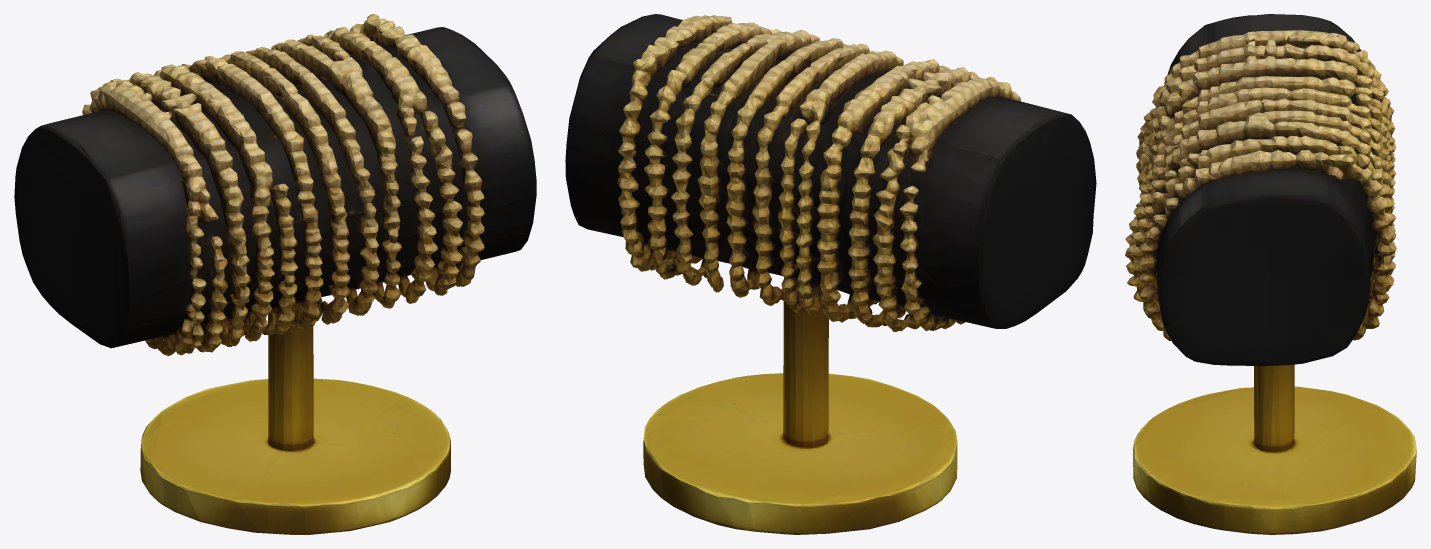
3 views of the same model, side by side, from view 1: azimuth 30°, elevation 25°; view 2: azimuth 150°, elevation 25°; view 3: azimuth 270°, elevation 25° (orthographic). The views are drawn at different scales.
Visible parts, largest first — view 1: geometry_0; view 2: geometry_0; view 3: geometry_0.
Part boxes in pixels (x1,y1,x2,y2): geometry_0: (14,14,536,534); geometry_0: (565,14,1096,534); geometry_0: (1125,14,1416,534).
Bounding box in the file's own units: 0.9993 × 0.9518 × 0.668.
1 material, 1 textured.
